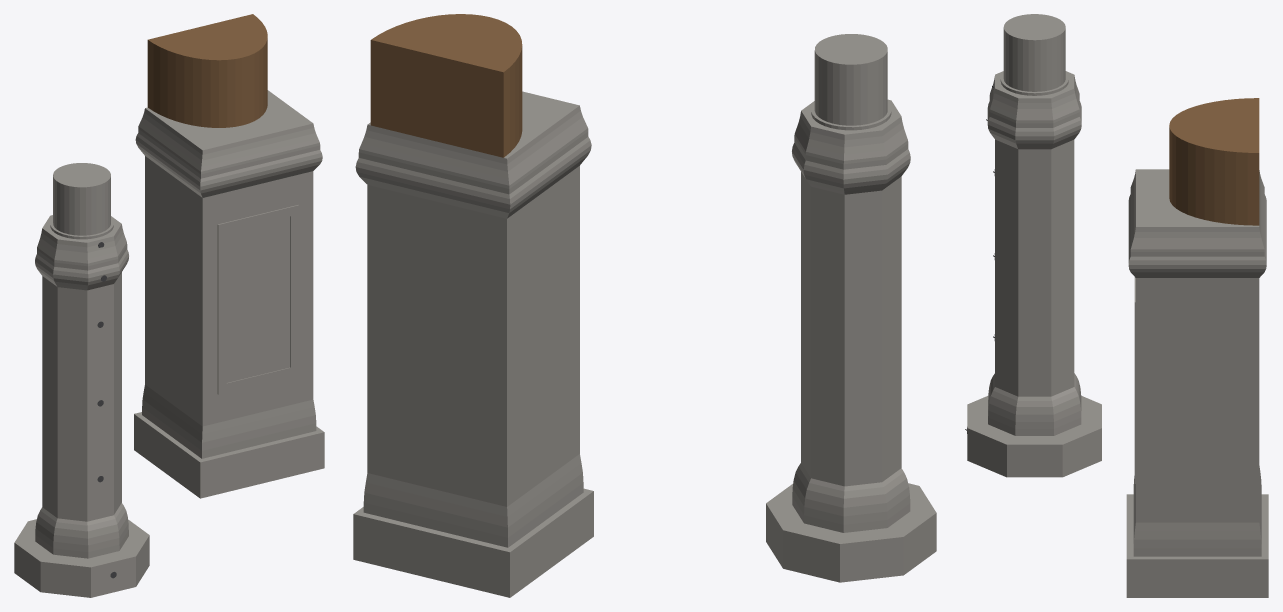
The model's file is south-entrance-pedestals.glb.
The picture shows the model from 3 angles, left to right: view 1: azimuth 30°, elevation 25°; view 2: azimuth 150°, elevation 25°; view 3: azimuth 270°, elevation 25°; orthographic projection. The views are drawn at different scales.
Visible parts, largest first — view 1: PedestalB, PedestalA, WoodColumnB_stub, PanelField, ColumnA3_stub, PanelStile_L, PanelStile_R, PanelRail_T, PanelRail_B; view 2: PedestalB, PedestalA, WoodColumnB_stub, ColumnA3_stub; view 3: PedestalB, PedestalA, WoodColumnB_stub, ColumnA3_stub.
Part boxes in pixels (x1=…): PedestalB: x1=134, y1=90, x2=324, y2=498; PedestalA: x1=14, y1=215, x2=149, y2=597; WoodColumnB_stub: x1=147, y1=14, x2=267, y2=127; PanelField: x1=226, y1=216, x2=289, y2=382; ColumnA3_stub: x1=50, y1=163, x2=113, y2=239; PanelStile_L: x1=217, y1=222, x2=226, y2=394; PanelStile_R: x1=290, y1=205, x2=299, y2=376; PanelRail_T: x1=226, y1=207, x2=290, y2=231; PanelRail_B: x1=226, y1=367, x2=290, y2=392; PedestalB: x1=353, y1=91, x2=593, y2=597; PedestalA: x1=766, y1=99, x2=936, y2=582; WoodColumnB_stub: x1=370, y1=14, x2=522, y2=157; ColumnA3_stub: x1=811, y1=34, x2=891, y2=130; PedestalB: x1=1126, y1=169, x2=1268, y2=597; PedestalA: x1=967, y1=71, x2=1101, y2=477; WoodColumnB_stub: x1=1169, y1=98, x2=1259, y2=225; ColumnA3_stub: x1=1000, y1=14, x2=1068, y2=95.
Size of the model in its own units: 1.6 by 1.85 by 1.15.
